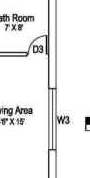door: (24, 31, 48, 59)
window: (37, 81, 70, 161)
